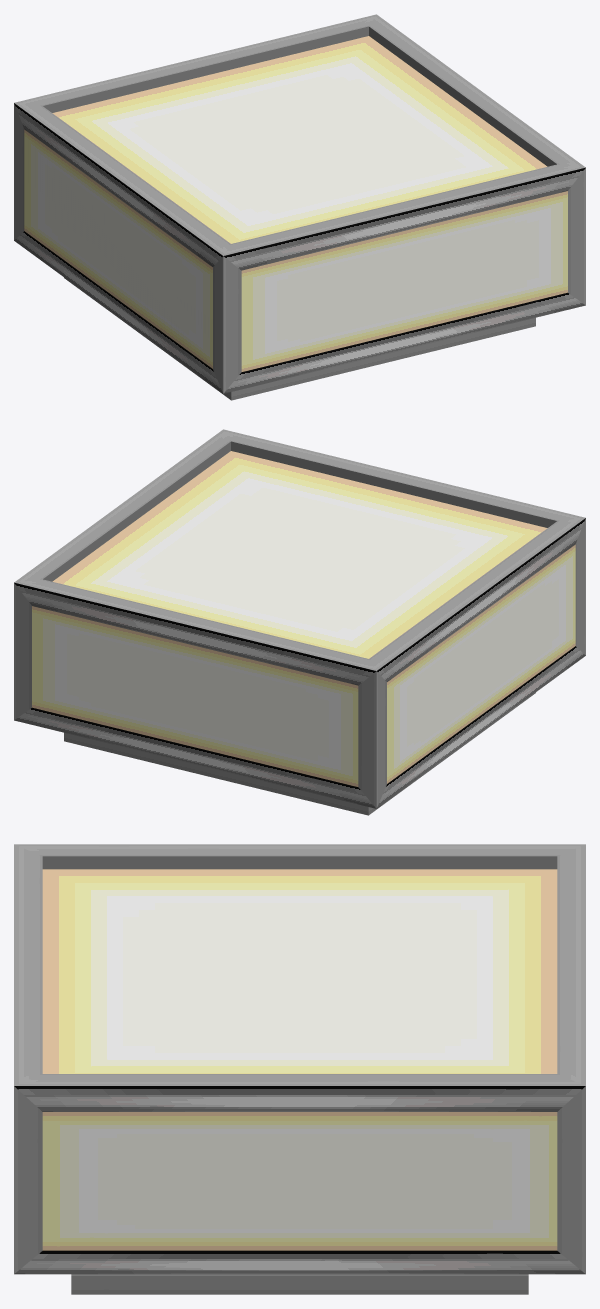
The picture shows the model from 3 angles, top to bottom: view 1: azimuth 30°, elevation 25°; view 2: azimuth 150°, elevation 25°; view 3: azimuth 270°, elevation 25°; orthographic projection. The views are drawn at different scales.
Parts seen in each view (by area): view 1: 3879kg3case07; view 2: 3879kg3case07; view 3: 3879kg3case07.
Part boxes in pixels (bbox=[...]): 3879kg3case07: bbox=[14, 14, 585, 400]; 3879kg3case07: bbox=[14, 429, 585, 815]; 3879kg3case07: bbox=[14, 844, 585, 1294].
Size of the model in its own units: 1 by 0.4399 by 1.
2 materials, 2 textured.
